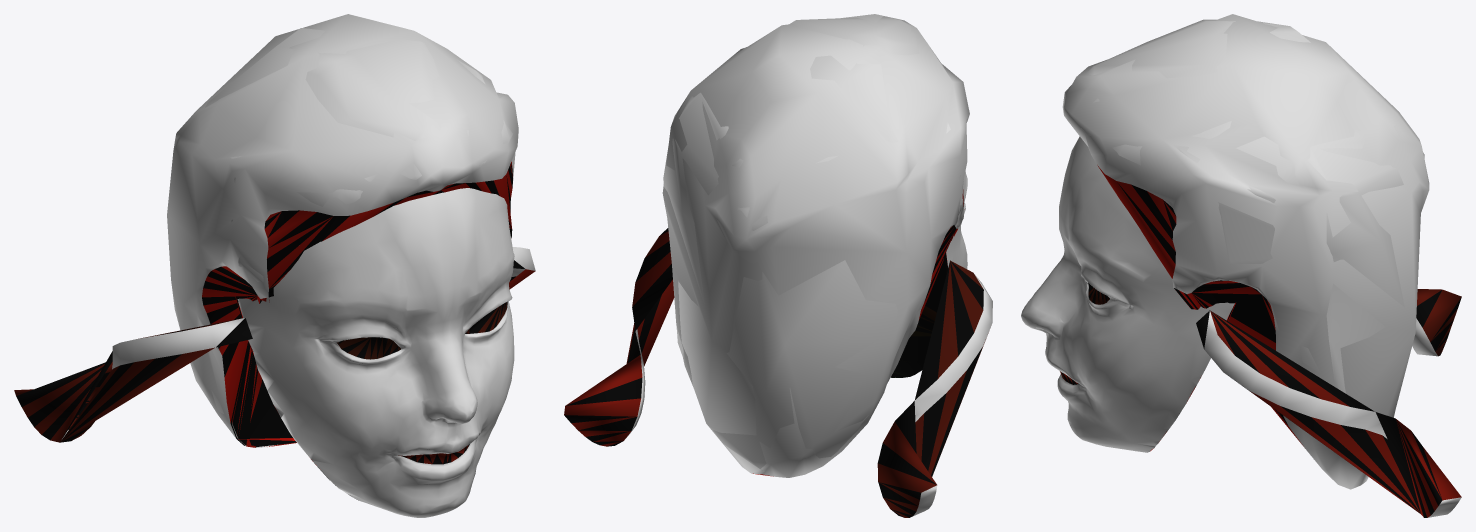
The picture shows the model from 3 angles, left to right: view 1: azimuth 30°, elevation 25°; view 2: azimuth 150°, elevation 25°; view 3: azimuth 270°, elevation 25°; orthographic projection. The views are drawn at different scales.
Size of the model in its own units: 0.9318 by 0.95 by 0.8761.
